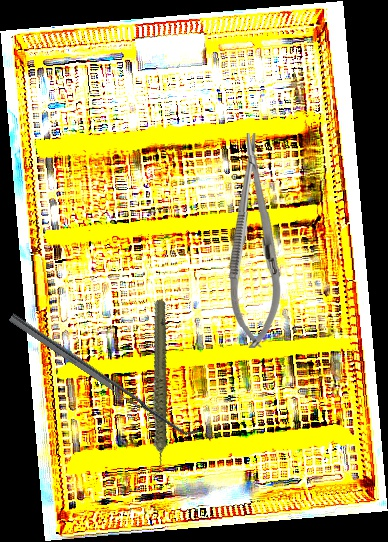Handpiece: (112, 298, 203, 479)
Needle Holder: (226, 132, 283, 349)
Spatula Surgical: (8, 306, 201, 444)
